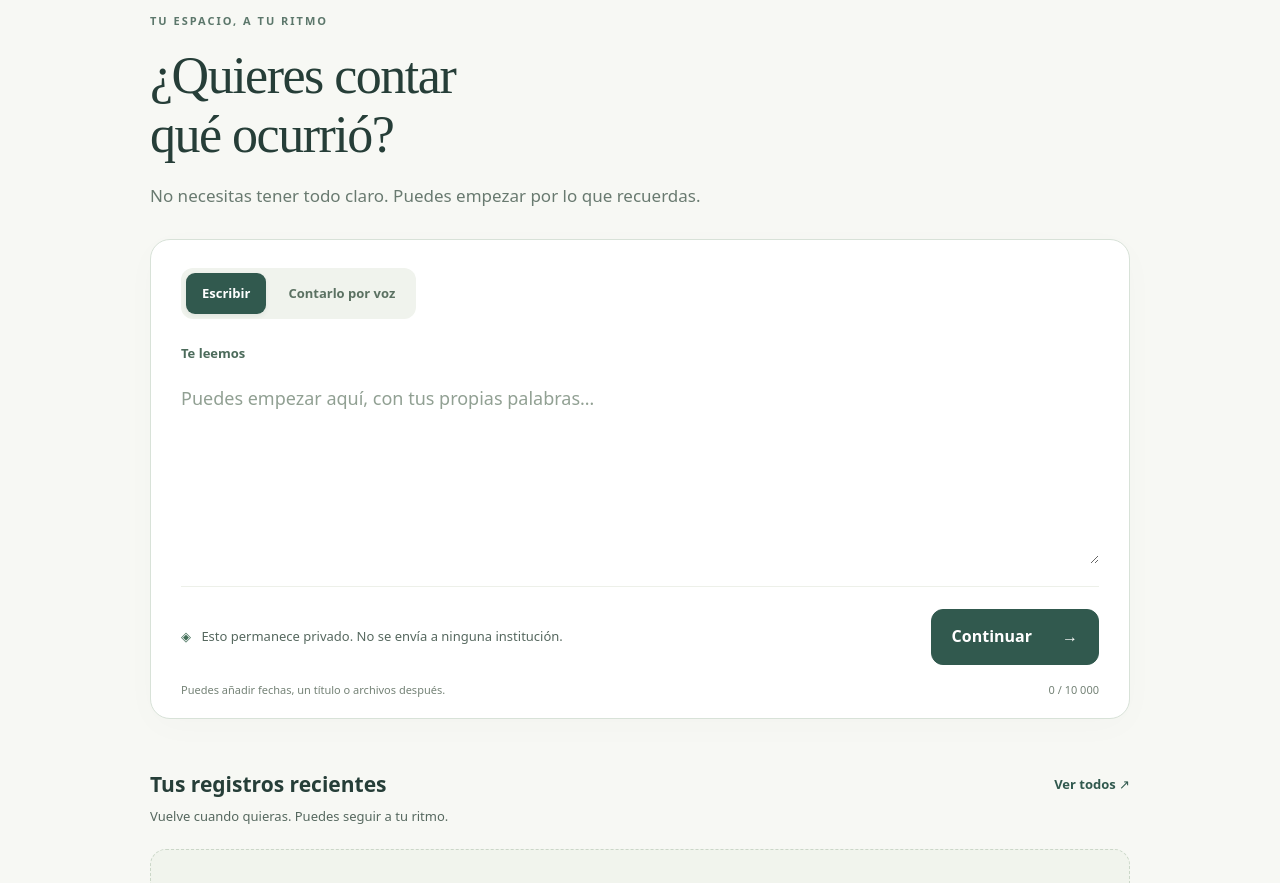
Test: informa cuando el navegador no permite conservar el borrador
In the text box labelled "Te leemos": (640, 469) [181,374,1099,564], type "Texto ficticio"
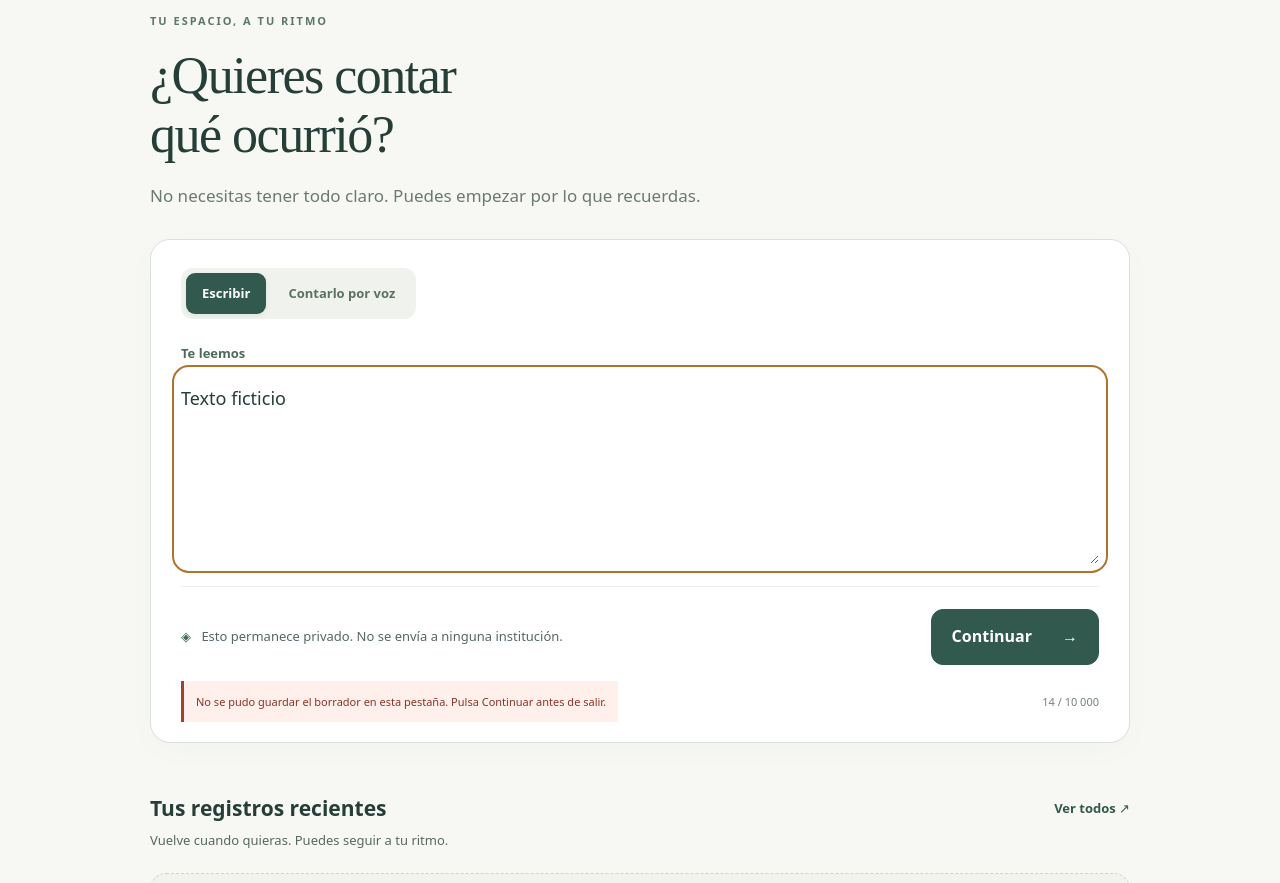
Check: the message shows "No se pudo guardar el borrador", box [196,694,606,708]
